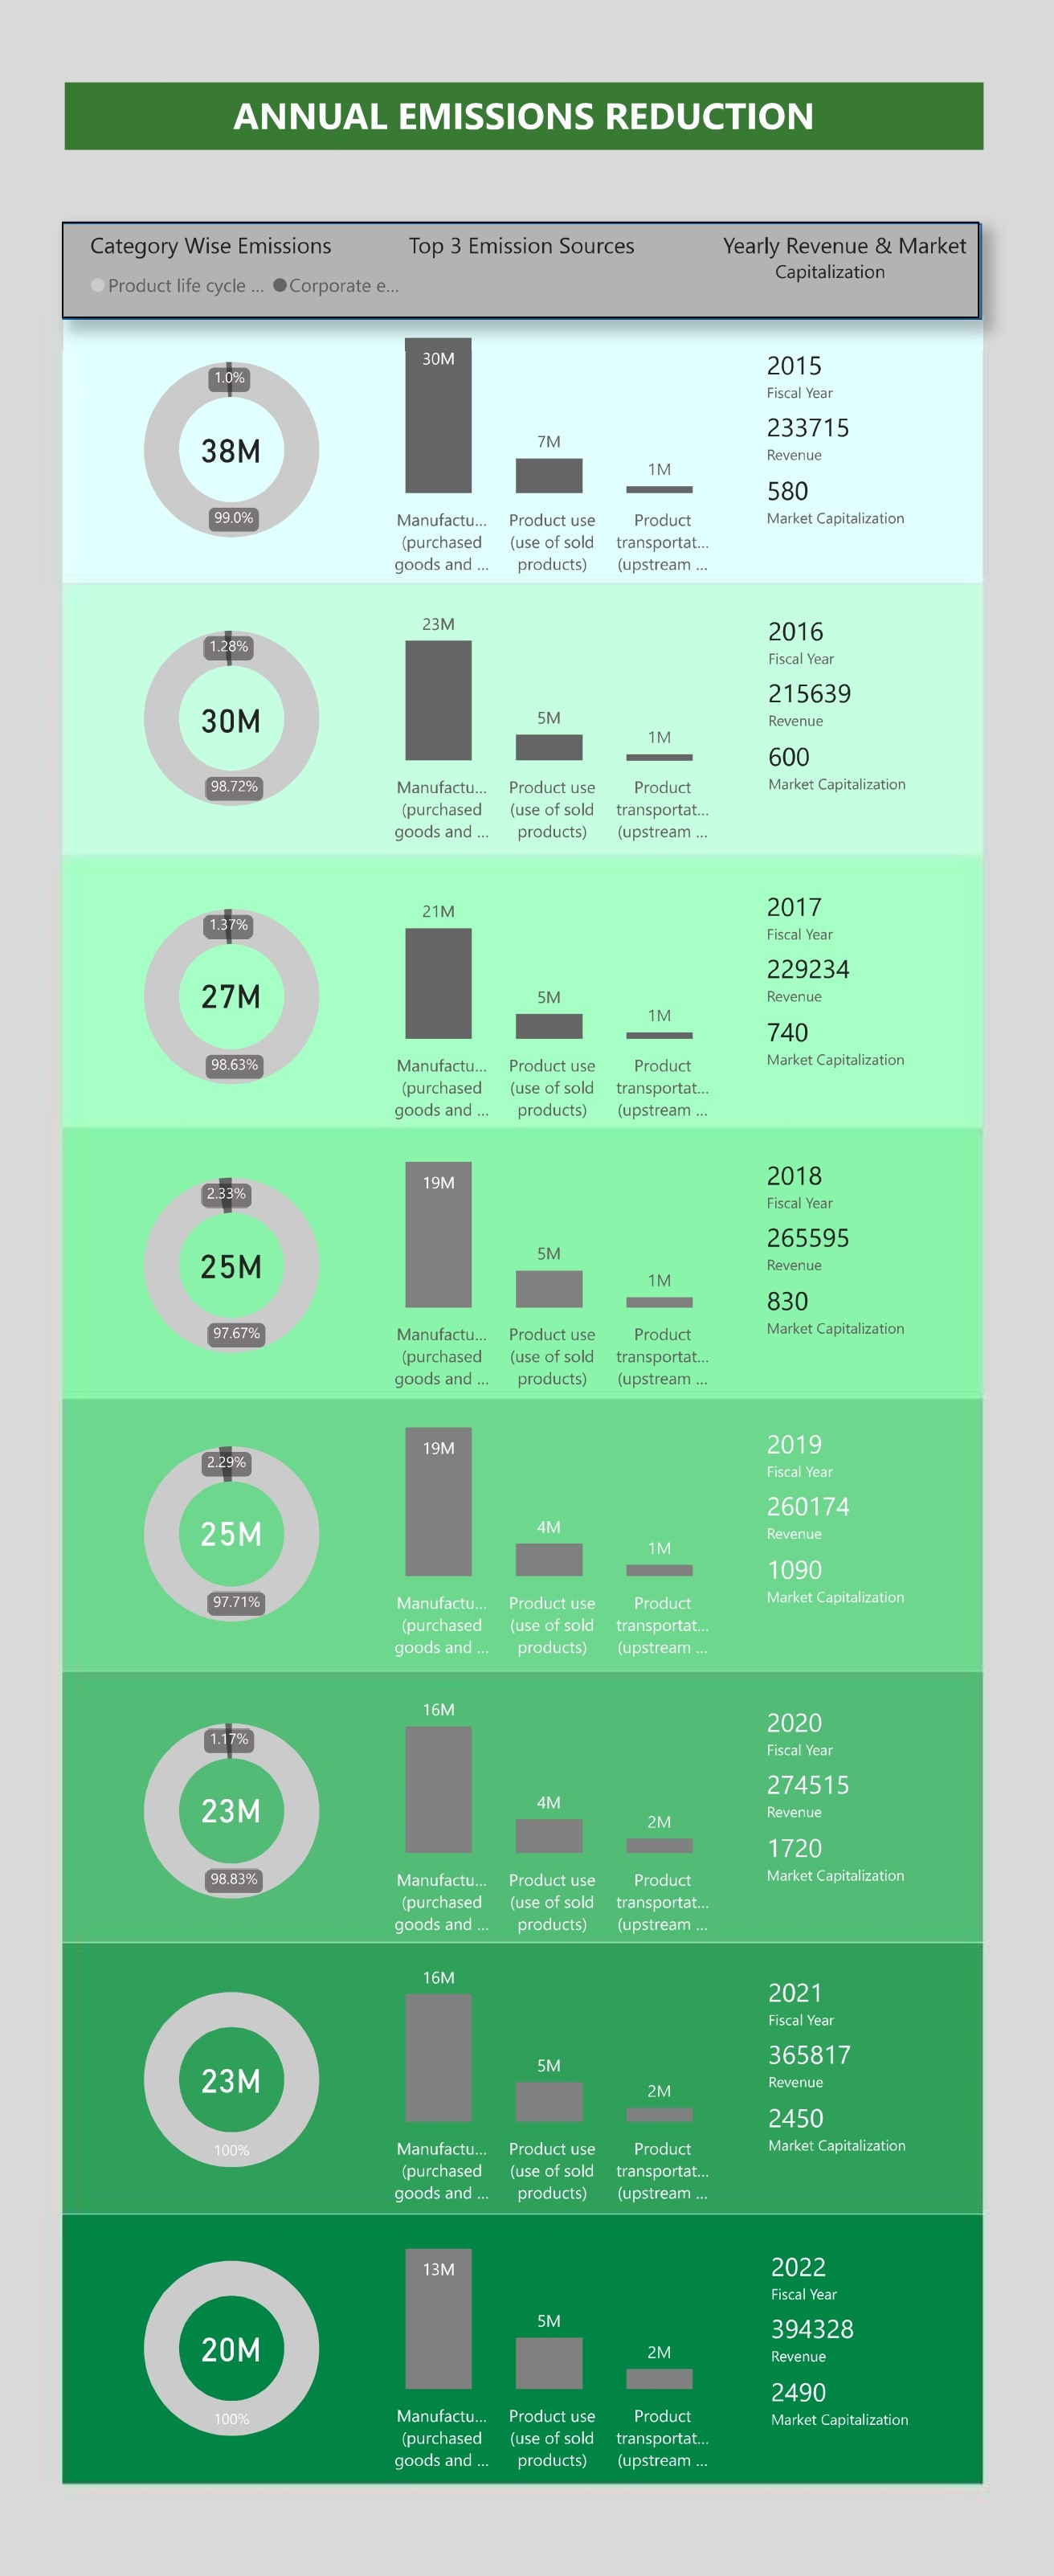

What the dashboard file says about the page in this screenshot:
{"tool":"powerbi","page":{"name":"Annual Emissions Reduction","canvas":[800,2000],"ordinal":1},"visuals":[{"type":"donutChart","fields":{"Category":["greenhouse_gas_emissions.Category"],"Y":["Sum(greenhouse_gas_emissions.Emissions)"]},"box":[89,234.2,225.8,195],"z":1000},{"type":"donutChart","fields":{"Category":["greenhouse_gas_emissions.Category"],"Y":["Sum(greenhouse_gas_emissions.Emissions)"]},"box":[89,429.2,225.8,195],"z":2000},{"type":"donutChart","fields":{"Category":["greenhouse_gas_emissions.Category"],"Y":["Sum(greenhouse_gas_emissions.Emissions)"]},"box":[89,630.8,225.8,195],"z":3000},{"type":"donutChart","fields":{"Category":["greenhouse_gas_emissions.Category"],"Y":["Sum(greenhouse_gas_emissions.Emissions)"]},"box":[89,825.8,225.8,195],"z":4000},{"type":"donutChart","fields":{"Category":["greenhouse_gas_emissions.Category"],"Y":["Sum(greenhouse_gas_emissions.Emissions)"]},"box":[89,1020.8,225.8,195],"z":5000},{"type":"donutChart","fields":{"Category":["greenhouse_gas_emissions.Category"],"Y":["Sum(greenhouse_gas_emissions.Emissions)"]},"box":[89,1221.7,225.8,195],"z":6000},{"type":"donutChart","fields":{"Category":["greenhouse_gas_emissions.Category"],"Y":["Sum(greenhouse_gas_emissions.Emissions)"]},"box":[89,1416.7,225.8,195],"z":7000},{"type":"donutChart","fields":{"Category":["greenhouse_gas_emissions.Category"],"Y":["Sum(greenhouse_gas_emissions.Emissions)"]},"box":[89,1611.7,225.8,195],"z":8000},{"type":"columnChart","fields":{"Y":["Sum(greenhouse_gas_emissions.Emissions)"],"Category":["greenhouse_gas_emissions.Description"],"Series":["greenhouse_gas_emissions.Category"]},"box":[274.7,235,303,195],"z":9000},{"type":"multiRowCard","fields":{"Values":["normalizing_factors.Fiscal Year","Sum(normalizing_factors.Revenue)","Sum(normalizing_factors.Market Capitalization)"]},"box":[585,252.5,160,157.5],"z":10000},{"type":"columnChart","fields":{"Y":["Sum(greenhouse_gas_emissions.Emissions)"],"Category":["greenhouse_gas_emissions.Description"],"Series":["greenhouse_gas_emissions.Category"]},"box":[274.7,429,303,195],"z":11000},{"type":"columnChart","fields":{"Y":["Sum(greenhouse_gas_emissions.Emissions)"],"Category":["greenhouse_gas_emissions.Description"],"Series":["greenhouse_gas_emissions.Category"]},"box":[274.7,631,303,195],"z":12000},{"type":"columnChart","fields":{"Y":["Sum(greenhouse_gas_emissions.Emissions)"],"Category":["greenhouse_gas_emissions.Description"],"Series":["greenhouse_gas_emissions.Category"]},"box":[274.7,826,303,195],"z":13000},{"type":"columnChart","fields":{"Y":["Sum(greenhouse_gas_emissions.Emissions)"],"Category":["greenhouse_gas_emissions.Description"],"Series":["greenhouse_gas_emissions.Category"]},"box":[274.7,1021,303,195],"z":14000},{"type":"columnChart","fields":{"Y":["Sum(greenhouse_gas_emissions.Emissions)"],"Category":["greenhouse_gas_emissions.Description"],"Series":["greenhouse_gas_emissions.Category"]},"box":[274.7,1222,303,195],"z":15000},{"type":"columnChart","fields":{"Y":["Sum(greenhouse_gas_emissions.Emissions)"],"Category":["greenhouse_gas_emissions.Description"],"Series":["greenhouse_gas_emissions.Category"]},"box":[274.7,1417,303,195],"z":16000},{"type":"columnChart","fields":{"Y":["Sum(greenhouse_gas_emissions.Emissions)"],"Category":["greenhouse_gas_emissions.Description"],"Series":["greenhouse_gas_emissions.Category"]},"box":[274.7,1611,303,195],"z":17000},{"type":"multiRowCard","fields":{"Values":["normalizing_factors.Fiscal Year","Sum(normalizing_factors.Revenue)","Sum(normalizing_factors.Market Capitalization)"]},"box":[586,446,161,157],"z":18000},{"type":"multiRowCard","fields":{"Values":["normalizing_factors.Fiscal Year","Sum(normalizing_factors.Revenue)","Sum(normalizing_factors.Market Capitalization)"]},"box":[585,646,161,157],"z":19000},{"type":"multiRowCard","fields":{"Values":["normalizing_factors.Fiscal Year","Sum(normalizing_factors.Revenue)","Sum(normalizing_factors.Market Capitalization)"]},"box":[585,841,161,157],"z":20000},{"type":"multiRowCard","fields":{"Values":["normalizing_factors.Fiscal Year","Sum(normalizing_factors.Revenue)","Sum(normalizing_factors.Market Capitalization)"]},"box":[585,1036,161,157],"z":21000},{"type":"multiRowCard","fields":{"Values":["normalizing_factors.Fiscal Year","Sum(normalizing_factors.Revenue)","Sum(normalizing_factors.Market Capitalization)"]},"box":[585,1238,161,157],"z":22000},{"type":"multiRowCard","fields":{"Values":["normalizing_factors.Fiscal Year","Sum(normalizing_factors.Revenue)","Sum(normalizing_factors.Market Capitalization)"]},"box":[586,1434,161,157],"z":23000},{"type":"multiRowCard","fields":{"Values":["normalizing_factors.Fiscal Year","Sum(normalizing_factors.Revenue)","Sum(normalizing_factors.Market Capitalization)"]},"box":[587.5,1632.5,162.5,157.5],"z":24000},{"type":"card","fields":{"Values":["Sum(greenhouse_gas_emissions.Emissions)"]},"box":[153.7,303,95,57],"z":25000},{"type":"card","fields":{"Values":["Sum(greenhouse_gas_emissions.Emissions)"]},"box":[153.7,499,95,57],"z":26000},{"type":"card","fields":{"Values":["Sum(greenhouse_gas_emissions.Emissions)"]},"box":[153.7,699,95,57],"z":27000},{"type":"card","fields":{"Values":["Sum(greenhouse_gas_emissions.Emissions)"]},"box":[153.7,895,95,57],"z":28000},{"type":"card","fields":{"Values":["Sum(greenhouse_gas_emissions.Emissions)"]},"box":[153.7,1089,95,57],"z":29000},{"type":"card","fields":{"Values":["Sum(greenhouse_gas_emissions.Emissions)"]},"box":[153.7,1290,95,57],"z":30000},{"type":"card","fields":{"Values":["Sum(greenhouse_gas_emissions.Emissions)"]},"box":[153.7,1486,95,57],"z":31000},{"type":"card","fields":{"Values":["Sum(greenhouse_gas_emissions.Emissions)"]},"box":[153.7,1681,95,57],"z":32000},{"type":"shape","box":[78.6,167.1,667.1,70],"z":33000},{"type":"textbox","box":[78.6,165.7,665.7,70],"z":34000},{"type":"donutChart","fields":{"Category":["greenhouse_gas_emissions.Category"],"Y":["Sum(greenhouse_gas_emissions.Emissions)"]},"box":[90.7,201.3,246.2,30],"z":35000},{"type":"textbox","box":[80.9,65.5,666.4,48.2],"z":36000}]}

Visuals, with their boxes in screenshot pixels (x1, y1, x2, y2), scaled from the page's 800x2000 canvas onto the 1054x2576 screenshot:
donutChart - greenhouse_gas_emissions.Category x Sum(greenhouse_gas_emissions.Emissions): [x1=117, y1=301, x2=415, y2=553]
donutChart - greenhouse_gas_emissions.Category x Sum(greenhouse_gas_emissions.Emissions): [x1=117, y1=553, x2=415, y2=804]
donutChart - greenhouse_gas_emissions.Category x Sum(greenhouse_gas_emissions.Emissions): [x1=117, y1=812, x2=415, y2=1064]
donutChart - greenhouse_gas_emissions.Category x Sum(greenhouse_gas_emissions.Emissions): [x1=117, y1=1064, x2=415, y2=1315]
donutChart - greenhouse_gas_emissions.Category x Sum(greenhouse_gas_emissions.Emissions): [x1=117, y1=1315, x2=415, y2=1566]
donutChart - greenhouse_gas_emissions.Category x Sum(greenhouse_gas_emissions.Emissions): [x1=117, y1=1573, x2=415, y2=1825]
donutChart - greenhouse_gas_emissions.Category x Sum(greenhouse_gas_emissions.Emissions): [x1=117, y1=1825, x2=415, y2=2076]
donutChart - greenhouse_gas_emissions.Category x Sum(greenhouse_gas_emissions.Emissions): [x1=117, y1=2076, x2=415, y2=2327]
columnChart - Sum(greenhouse_gas_emissions.Emissions) x greenhouse_gas_emissions.Description: [x1=362, y1=303, x2=761, y2=554]
multiRowCard - normalizing_factors.Fiscal Year x Sum(normalizing_factors.Revenue): [x1=770, y1=325, x2=982, y2=528]
columnChart - Sum(greenhouse_gas_emissions.Emissions) x greenhouse_gas_emissions.Description: [x1=362, y1=553, x2=761, y2=803]
columnChart - Sum(greenhouse_gas_emissions.Emissions) x greenhouse_gas_emissions.Description: [x1=362, y1=812, x2=761, y2=1064]
columnChart - Sum(greenhouse_gas_emissions.Emissions) x greenhouse_gas_emissions.Description: [x1=362, y1=1064, x2=761, y2=1315]
columnChart - Sum(greenhouse_gas_emissions.Emissions) x greenhouse_gas_emissions.Description: [x1=362, y1=1315, x2=761, y2=1566]
columnChart - Sum(greenhouse_gas_emissions.Emissions) x greenhouse_gas_emissions.Description: [x1=362, y1=1574, x2=761, y2=1825]
columnChart - Sum(greenhouse_gas_emissions.Emissions) x greenhouse_gas_emissions.Description: [x1=362, y1=1825, x2=761, y2=2076]
columnChart - Sum(greenhouse_gas_emissions.Emissions) x greenhouse_gas_emissions.Description: [x1=362, y1=2075, x2=761, y2=2326]
multiRowCard - normalizing_factors.Fiscal Year x Sum(normalizing_factors.Revenue): [x1=772, y1=574, x2=984, y2=777]
multiRowCard - normalizing_factors.Fiscal Year x Sum(normalizing_factors.Revenue): [x1=770, y1=832, x2=983, y2=1034]
multiRowCard - normalizing_factors.Fiscal Year x Sum(normalizing_factors.Revenue): [x1=770, y1=1083, x2=983, y2=1286]
multiRowCard - normalizing_factors.Fiscal Year x Sum(normalizing_factors.Revenue): [x1=770, y1=1335, x2=983, y2=1536]
multiRowCard - normalizing_factors.Fiscal Year x Sum(normalizing_factors.Revenue): [x1=770, y1=1595, x2=983, y2=1797]
multiRowCard - normalizing_factors.Fiscal Year x Sum(normalizing_factors.Revenue): [x1=772, y1=1847, x2=984, y2=2049]
multiRowCard - normalizing_factors.Fiscal Year x Sum(normalizing_factors.Revenue): [x1=774, y1=2103, x2=988, y2=2305]
card - Sum(greenhouse_gas_emissions.Emissions): [x1=202, y1=390, x2=328, y2=464]
card - Sum(greenhouse_gas_emissions.Emissions): [x1=202, y1=643, x2=328, y2=716]
card - Sum(greenhouse_gas_emissions.Emissions): [x1=202, y1=900, x2=328, y2=974]
card - Sum(greenhouse_gas_emissions.Emissions): [x1=202, y1=1153, x2=328, y2=1226]
card - Sum(greenhouse_gas_emissions.Emissions): [x1=202, y1=1403, x2=328, y2=1476]
card - Sum(greenhouse_gas_emissions.Emissions): [x1=202, y1=1662, x2=328, y2=1735]
card - Sum(greenhouse_gas_emissions.Emissions): [x1=202, y1=1914, x2=328, y2=1987]
card - Sum(greenhouse_gas_emissions.Emissions): [x1=202, y1=2165, x2=328, y2=2239]
shape: [x1=104, y1=215, x2=983, y2=305]
textbox: [x1=104, y1=214, x2=981, y2=304]
donutChart - greenhouse_gas_emissions.Category x Sum(greenhouse_gas_emissions.Emissions): [x1=120, y1=260, x2=444, y2=298]
textbox: [x1=107, y1=84, x2=985, y2=146]
